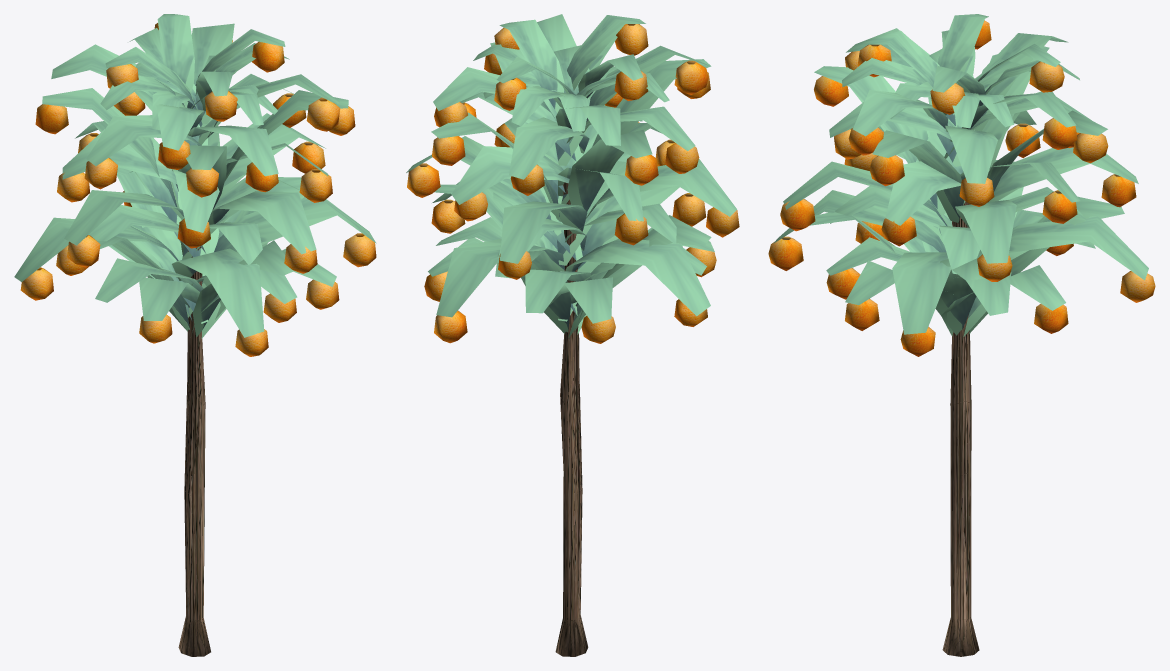
Rendered from Plant5.fbx.
The picture shows the model from 3 angles, left to right: view 1: azimuth 30°, elevation 25°; view 2: azimuth 150°, elevation 25°; view 3: azimuth 270°, elevation 25°; orthographic projection.
Parts seen in each view (by area): view 1: Plant5; view 2: Plant5; view 3: Plant5.
Part boxes in pixels (left/top/right/bottom): Plant5: left=14, top=14, right=376, bottom=656; Plant5: left=406, top=14, right=739, bottom=656; Plant5: left=768, top=14, right=1155, bottom=656.
Size of the model in its own units: 2.03 by 3.76 by 2.17.
Materials: 3 (3 with a texture image).
